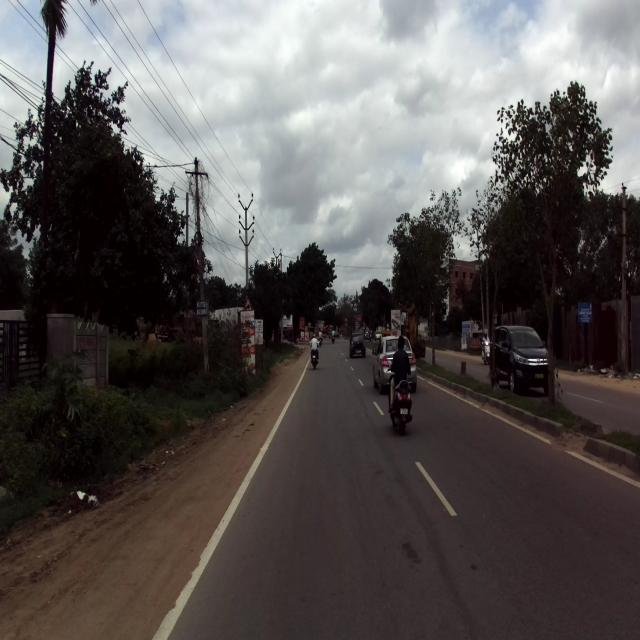Car_Toyota: (488, 322, 550, 397)
scooter: (386, 367, 414, 432)
